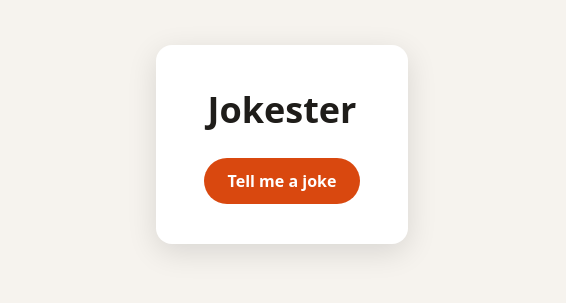
retry after error clears the error
Click the button "Tell me a joke".
click(282, 180)  # box [204, 158, 360, 204]
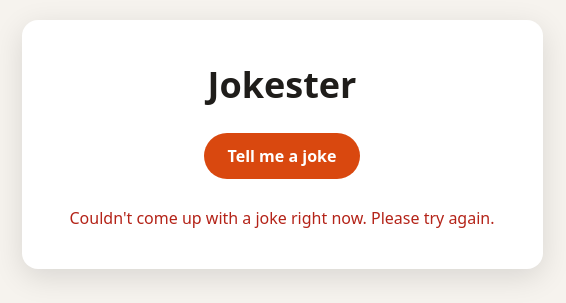
Expected: the message "Couldn't come up with a joke right now. Please try again." is shown, [54, 206, 510, 228]
Click the button "Tell me a joke".
click(282, 156)  # box [204, 132, 360, 178]
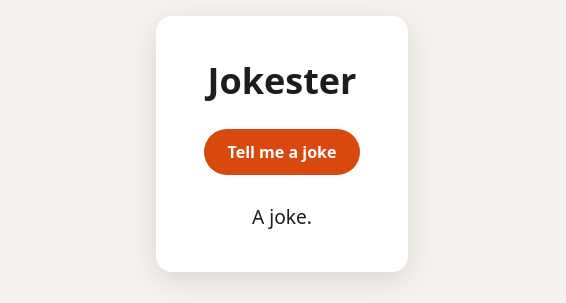
Expected: the text "A joke." is shown, [252, 203, 312, 230]
Expected: the message "Couldn't come up with a joke right now. Please try again." is gone
